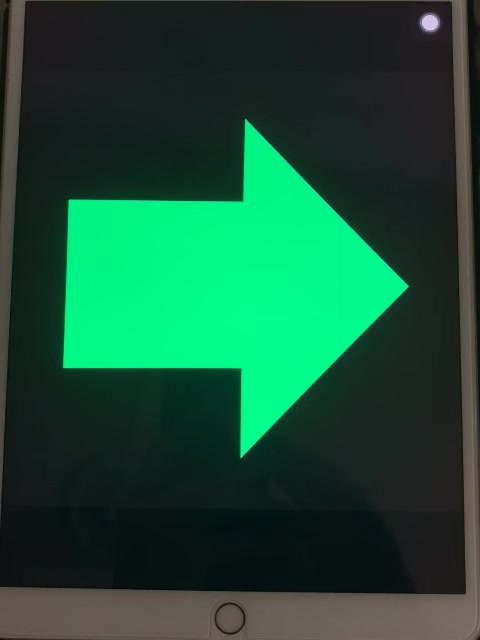right: (48, 107, 414, 464)
